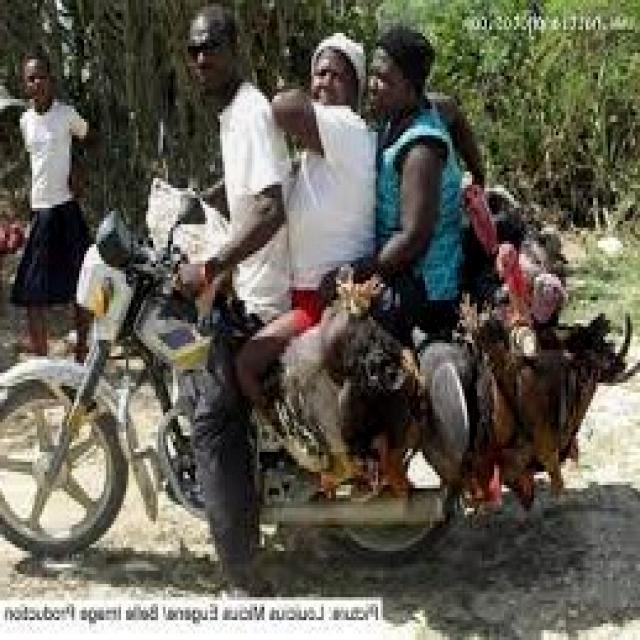Overloading: (48, 15, 592, 592)
